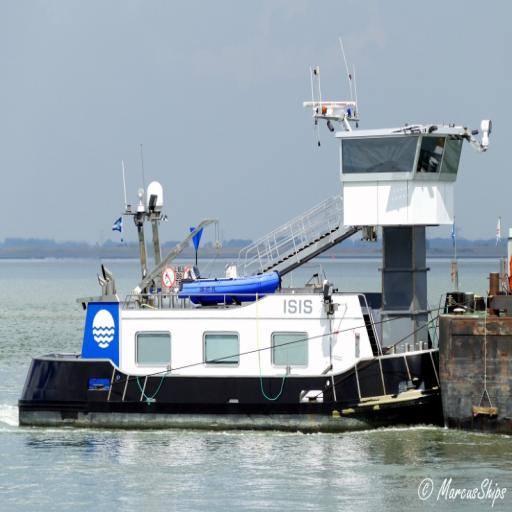tugboat: (15, 97, 492, 440)
